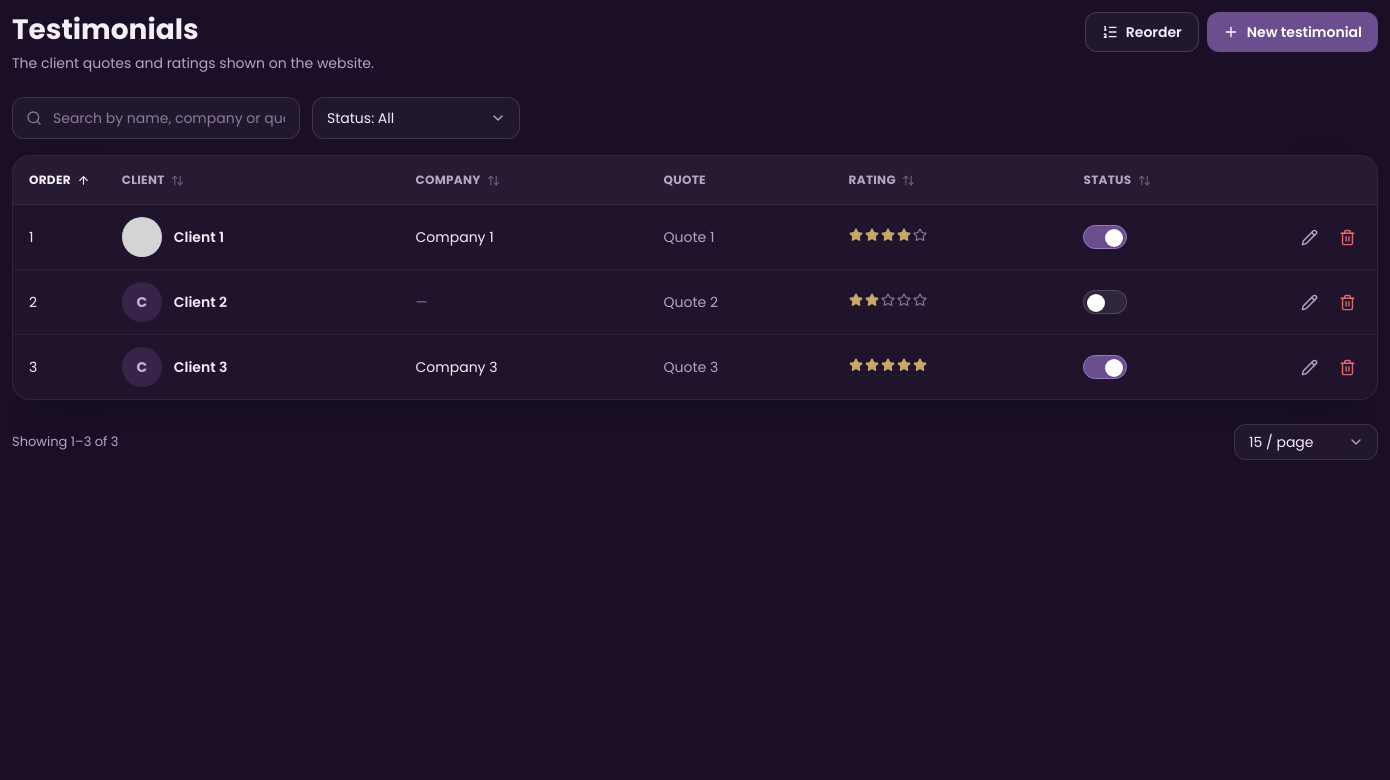
Scenario: TestimonialList › active toggle › shows an error toast when the update fails
This screenshot has width=1390, height=780.
Expected: the text "Client 1" is shown, [174,227,224,247]
Click the switch named "Active: Client 1": (1106, 237) [1084,225,1128,249]
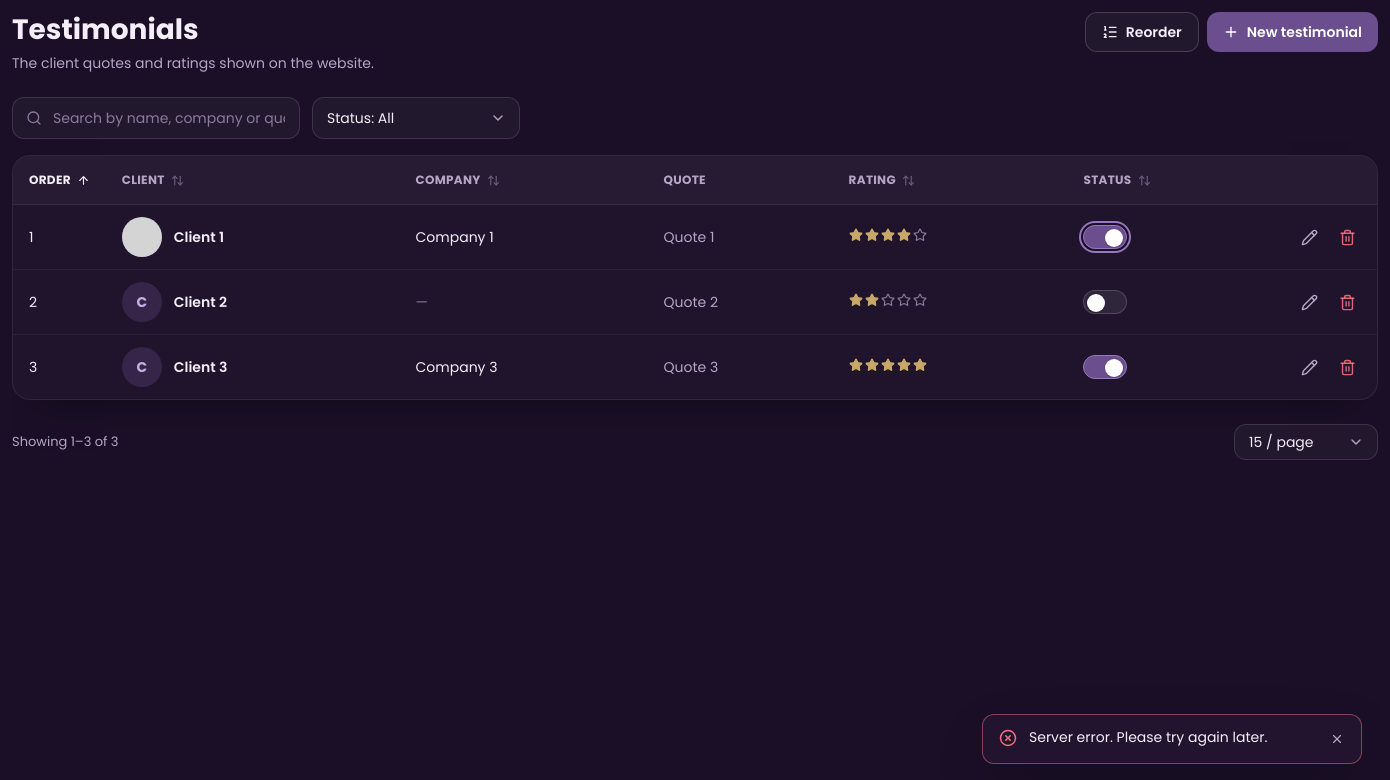
Now the text "Server error. Please try again later." is shown, box [1029,727,1267,747]
